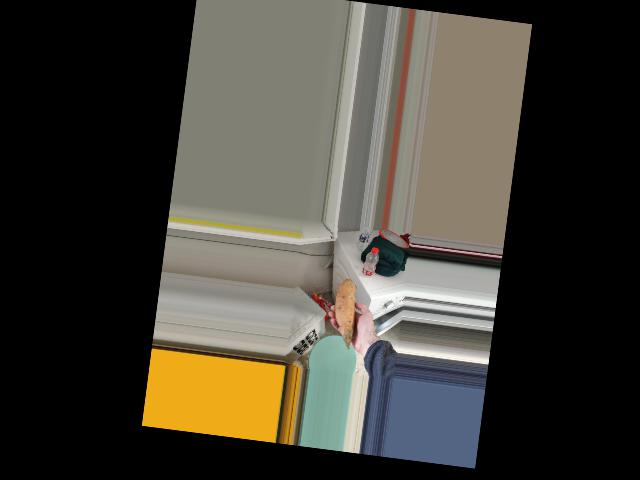sweet_potato: (329, 278, 359, 339)
